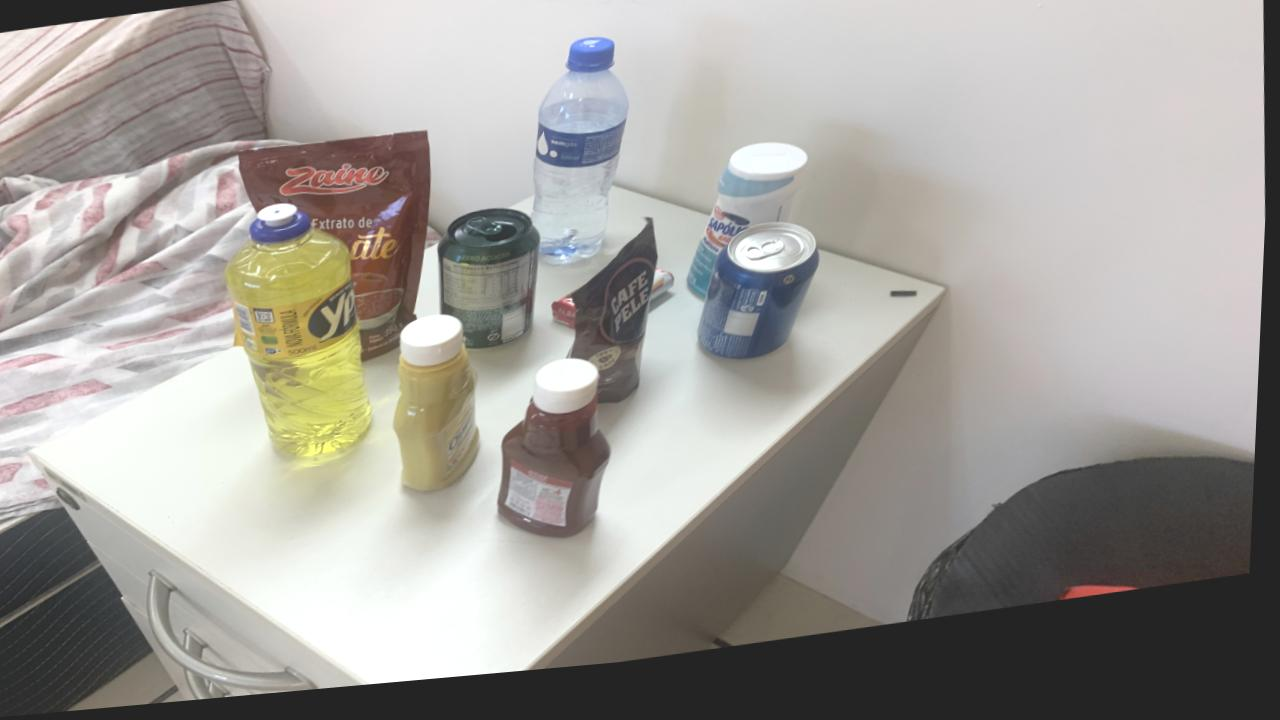Cleaner-Cleanup_Items: (690, 157, 808, 312)
Coffee-Pantry_Items: (573, 230, 659, 415)
Detergent-Cleanup_Items: (228, 209, 374, 462)
Guarana_Can-Drinks: (441, 218, 541, 358)
Ketchup-Pantry_Items: (503, 368, 615, 549)
Mustard-Pantry_Items: (396, 323, 484, 500)
Soap-Cleanup_Items: (555, 305, 580, 339), (652, 281, 677, 312)
Tomato_Sauce-Pantry_Items: (241, 138, 432, 367)
Tonic-Drinks: (701, 238, 822, 374)
Water_Bottle-Drinks: (533, 48, 629, 275)
